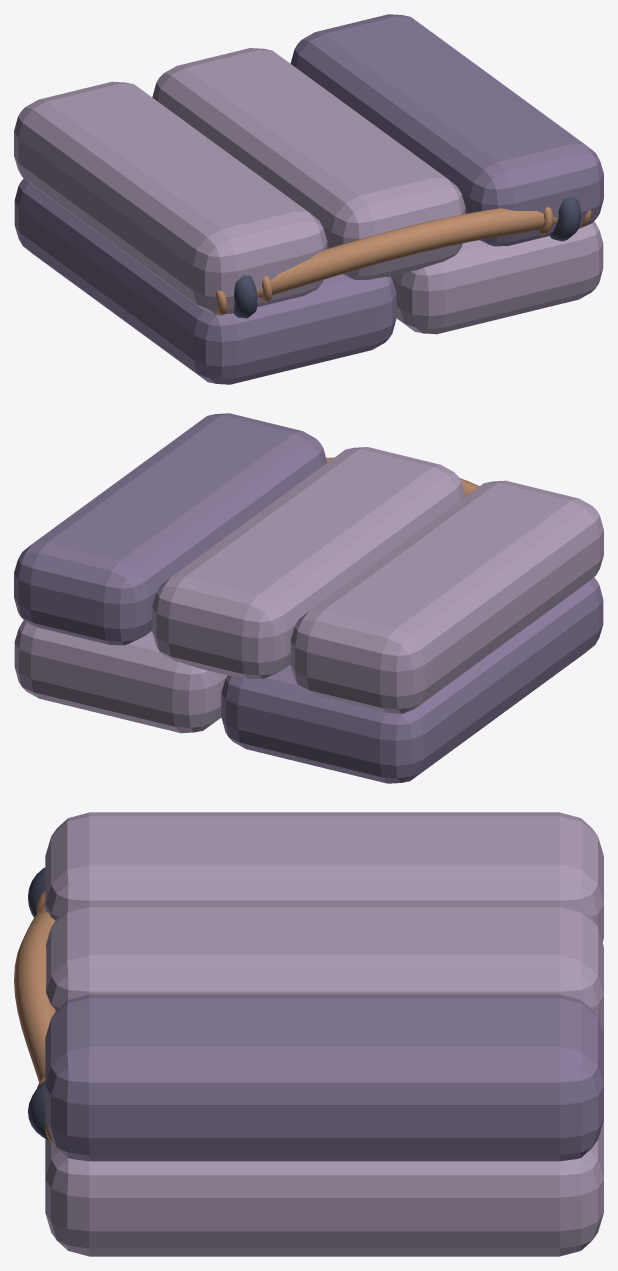
The model's file is inferno_wall_b.glb.
3 renders of one model, top to bottom at view 1: azimuth 30°, elevation 25°; view 2: azimuth 150°, elevation 25°; view 3: azimuth 270°, elevation 25°, orthographic. The views are drawn at different scales.
Visible parts, largest first — view 1: Batched V2 inferno stone_light, Batched V2 inferno stone, Batched V2 inferno copper, Batched V2 inferno dark; view 2: Batched V2 inferno stone_light, Batched V2 inferno stone; view 3: Batched V2 inferno stone_light, Batched V2 inferno stone, Batched V2 inferno copper, Batched V2 inferno dark.
Boxes of the visible parts, x1,y1,x2,y2 form: Batched V2 inferno stone_light: [14, 48, 603, 334]; Batched V2 inferno stone: [14, 14, 603, 384]; Batched V2 inferno copper: [215, 207, 591, 315]; Batched V2 inferno dark: [233, 195, 580, 318]; Batched V2 inferno stone_light: [14, 447, 603, 733]; Batched V2 inferno stone: [14, 413, 603, 783]; Batched V2 inferno stone_light: [45, 812, 603, 1256]; Batched V2 inferno stone: [45, 994, 603, 1161]; Batched V2 inferno copper: [14, 890, 55, 1144]; Batched V2 inferno dark: [28, 867, 49, 1140].
Size of the model in its own units: 1.72 by 0.62 by 1.6.
